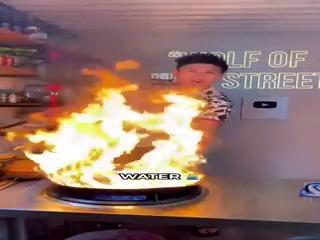Fire: (26, 60, 206, 187)
